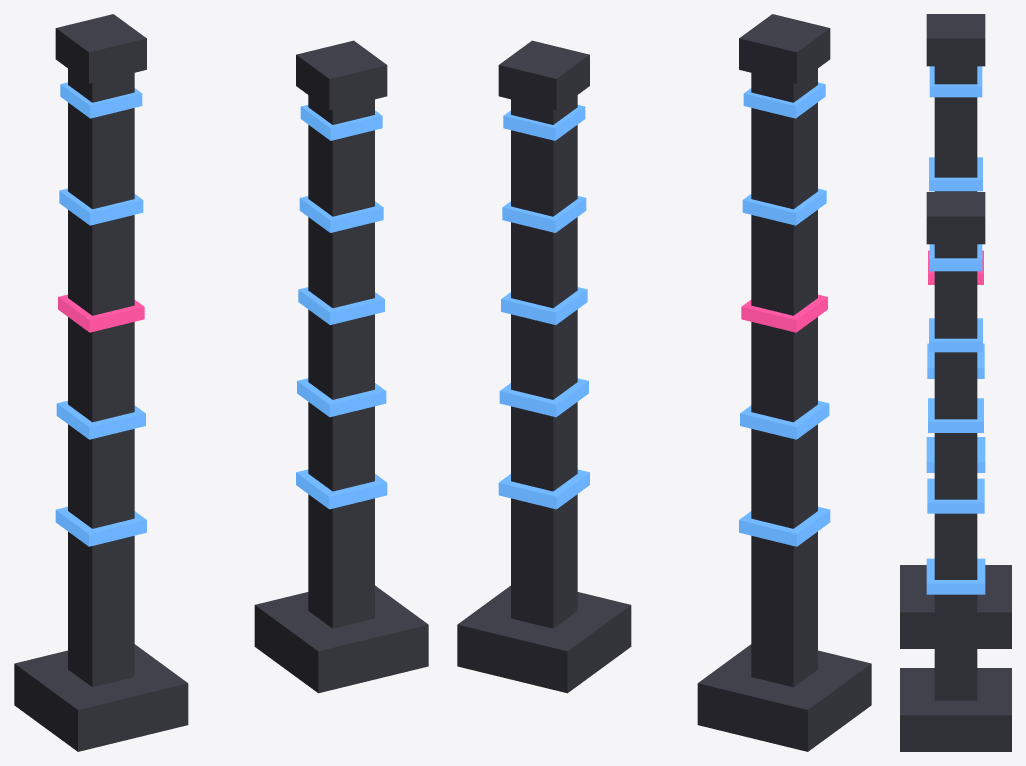
The model's file is runtime.glb.
The picture shows the model from 3 angles, left to right: view 1: azimuth 30°, elevation 25°; view 2: azimuth 150°, elevation 25°; view 3: azimuth 270°, elevation 25°; orthographic projection. The views are drawn at different scales.
Visible parts, largest first — view 1: neon_pylon_post_nocol, neon_pylon_band_blue_noshadow_nocol, neon_pylon_band_red_noshadow_nocol; view 2: neon_pylon_post_nocol, neon_pylon_band_blue_noshadow_nocol, neon_pylon_band_red_noshadow_nocol; view 3: neon_pylon_post_nocol, neon_pylon_band_blue_noshadow_nocol, neon_pylon_band_red_noshadow_nocol.
Part boxes in pixels (x1,y1,x2,y2): neon_pylon_post_nocol: [14, 14, 428, 751]; neon_pylon_band_blue_noshadow_nocol: [55, 82, 387, 546]; neon_pylon_band_red_noshadow_nocol: [58, 294, 144, 332]; neon_pylon_post_nocol: [457, 14, 871, 751]; neon_pylon_band_blue_noshadow_nocol: [498, 82, 830, 546]; neon_pylon_band_red_noshadow_nocol: [741, 294, 827, 332]; neon_pylon_post_nocol: [900, 14, 1011, 751]; neon_pylon_band_blue_noshadow_nocol: [926, 66, 985, 594]; neon_pylon_band_red_noshadow_nocol: [928, 250, 983, 284].
Bounding box in the file's own units: 3.5 × 6.51 × 1.1.
